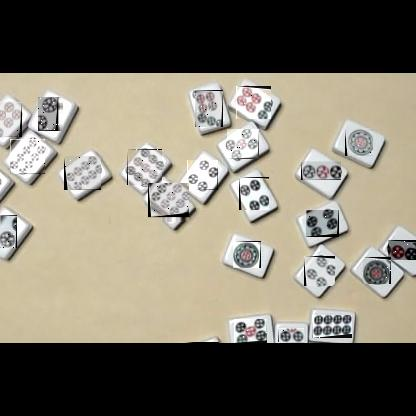1p: (345, 128, 373, 156), (233, 241, 261, 268), (363, 257, 391, 284)
2p: (39, 97, 63, 131), (0, 215, 17, 248)
3p: (301, 161, 341, 180), (388, 240, 416, 260), (185, 342, 219, 343)
4p: (239, 177, 269, 210), (187, 160, 218, 190), (304, 256, 335, 286), (306, 210, 339, 237)
5p: (227, 129, 259, 159), (234, 319, 267, 343), (278, 328, 304, 343)
6p: (236, 86, 271, 119), (0, 102, 22, 137)
7p: (195, 90, 223, 127)
8p: (64, 156, 101, 190), (10, 139, 45, 174), (312, 315, 352, 338)
9p: (148, 184, 189, 222), (127, 149, 162, 185)
